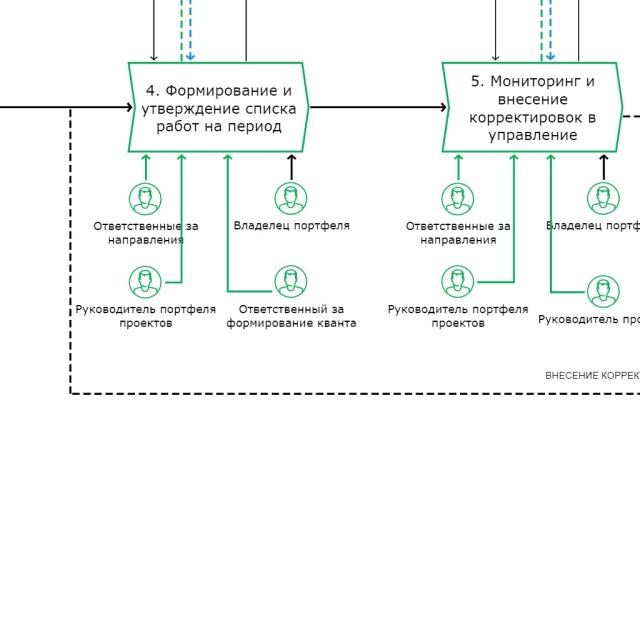arrow: (475, 152, 520, 287), (545, 154, 586, 298), (166, 154, 185, 284), (309, 97, 448, 114), (287, 154, 296, 181), (599, 155, 608, 180), (455, 155, 463, 180), (142, 154, 149, 181)
circle: (442, 265, 474, 298), (587, 275, 619, 308), (442, 182, 474, 215), (275, 265, 307, 298), (587, 182, 619, 214), (129, 266, 161, 298), (129, 183, 161, 215), (275, 182, 306, 214)
rectangle: (443, 62, 622, 153), (129, 62, 308, 152)
text_region: (76, 300, 218, 334), (382, 301, 531, 330), (225, 300, 358, 332), (91, 218, 202, 248), (392, 221, 512, 246), (229, 217, 355, 234)
